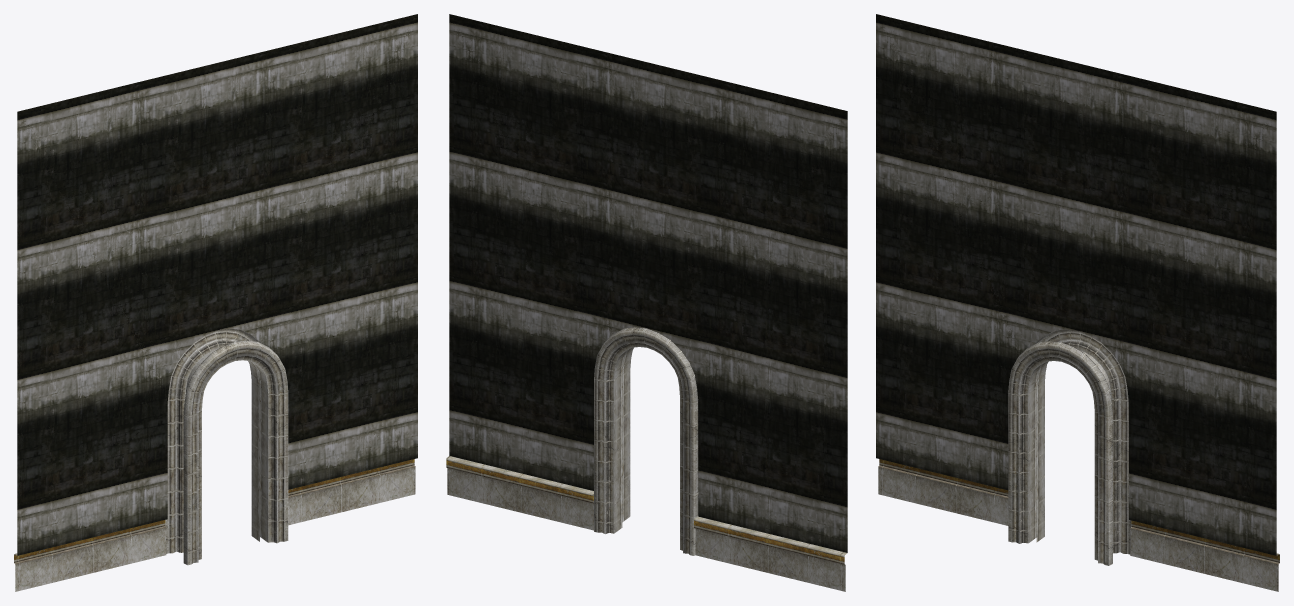
The model's file is Hallway_BackWall.FBX.
The picture shows the model from 3 angles, left to right: view 1: azimuth 30°, elevation 25°; view 2: azimuth 150°, elevation 25°; view 3: azimuth 330°, elevation 25°; orthographic projection.
Parts seen in each view (by area): view 1: SM_L_Hallway_BackWall; view 2: SM_L_Hallway_BackWall; view 3: SM_L_Hallway_BackWall.
Part boxes in pixels (<box>): SM_L_Hallway_BackWall: <box>14,14,417,591</box>; SM_L_Hallway_BackWall: <box>446,14,847,591</box>; SM_L_Hallway_BackWall: <box>876,14,1279,591</box>.
Size of what is drawn, in the model's own units: 892 by 86.27 by 1026.
